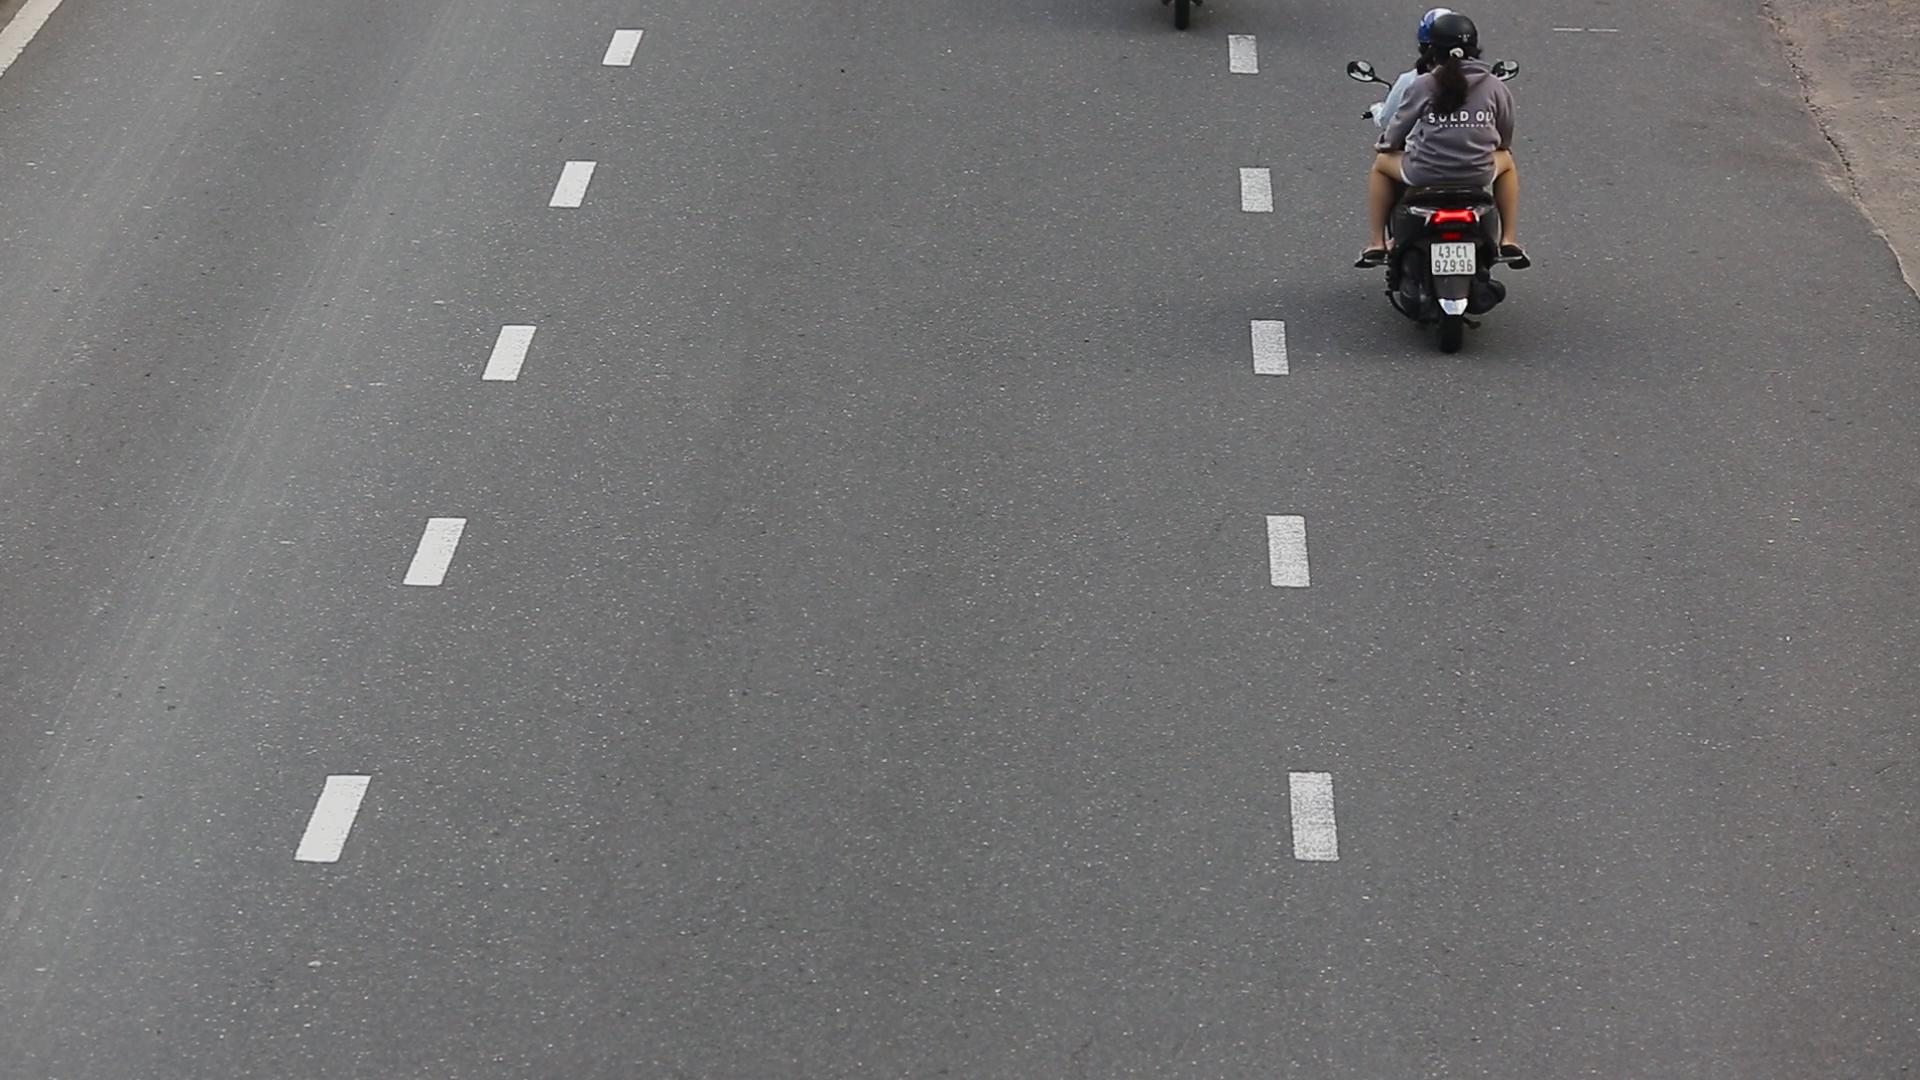motobike: (1344, 7, 1547, 347)
